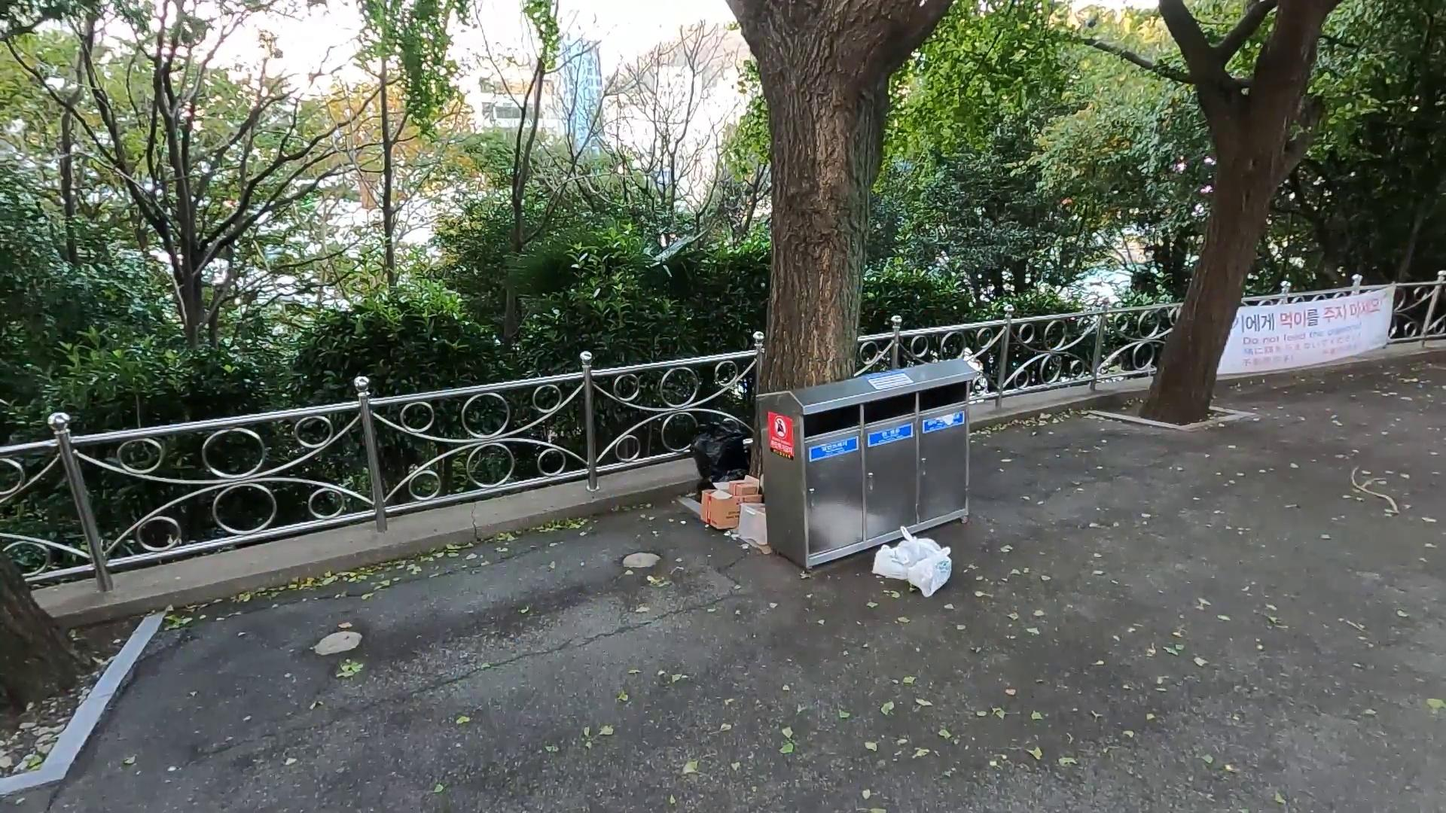trash: (691, 421, 751, 472), (699, 488, 763, 529), (908, 549, 952, 599), (872, 544, 918, 580), (896, 526, 944, 559), (720, 469, 764, 501), (737, 501, 767, 547), (693, 474, 719, 500), (728, 480, 757, 495)
